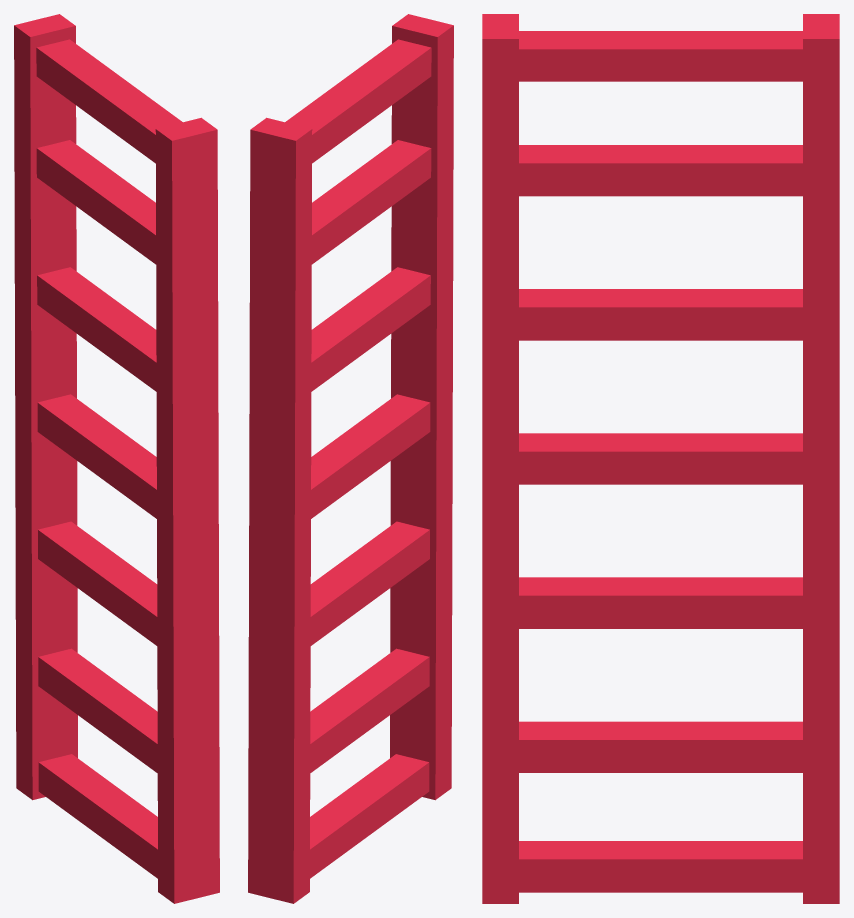
The model's file is sm_building_stairs02_01.fbx.
The picture shows the model from 3 angles, left to right: view 1: azimuth 30°, elevation 25°; view 2: azimuth 150°, elevation 25°; view 3: azimuth 270°, elevation 25°; orthographic projection. The views are drawn at different scales.
Parts seen in each view (by area): view 1: WB1_Fence_W2D32H4__4__9.001; view 2: WB1_Fence_W2D32H4__4__9.001; view 3: WB1_Fence_W2D32H4__4__9.001.
Boxes of the visible parts, x1=… form: WB1_Fence_W2D32H4__4__9.001: x1=14, y1=14, x2=219, y2=903; WB1_Fence_W2D32H4__4__9.001: x1=248, y1=14, x2=453, y2=903; WB1_Fence_W2D32H4__4__9.001: x1=482, y1=14, x2=839, y2=903.
Bounding box in the file's own units: 16.8 × 256 × 96.
